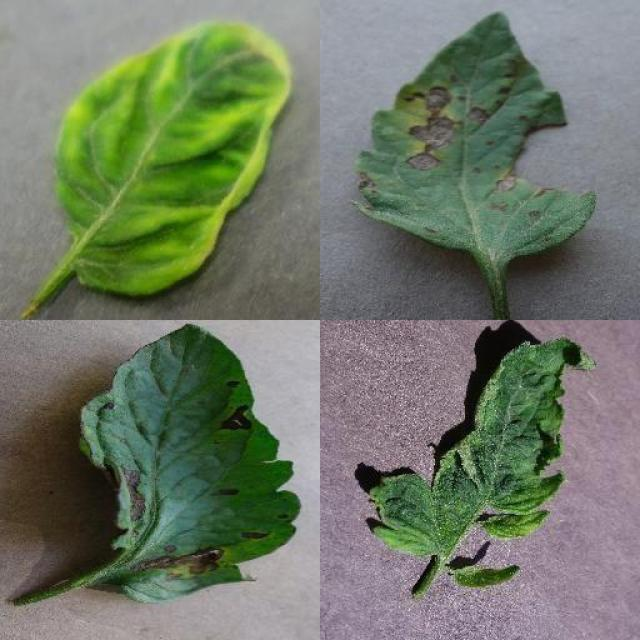Early Blight: (76, 322, 302, 606), (356, 12, 596, 266)
